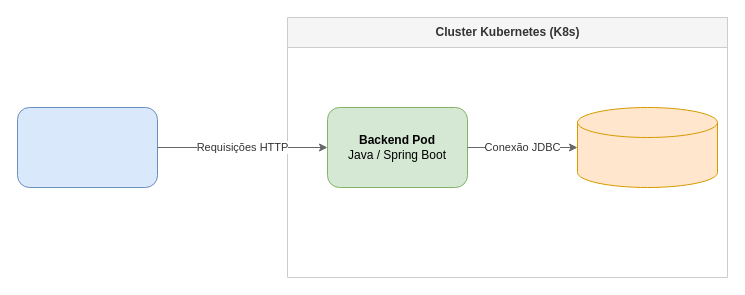
Some shapes in this 745 by 295 pixel diagram are drawn without their labels. The box of each missing label's shape, as (x1, y1, x2, y2) in pixels:
Postgres Pod Banco de Dados: (576, 106, 718, 188)
Usuário (Frontend) Navegador Web: (16, 106, 158, 188)
